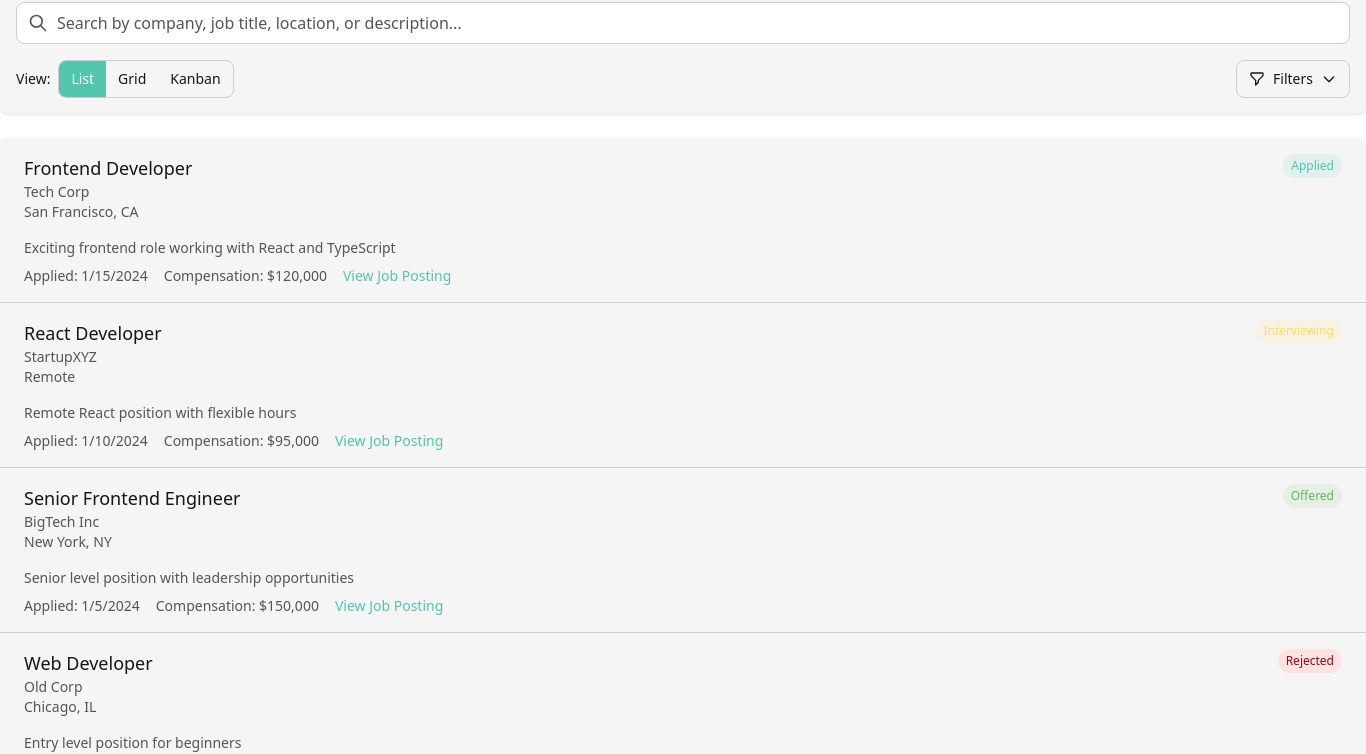
Test case: ApplicationsView Component › View Toggle › should toggle back to list view when list button is clicked
The image size is (1366, 754).
Click the button with test id "grid-toggle-button" at (132, 79), box [106,61,158,97]
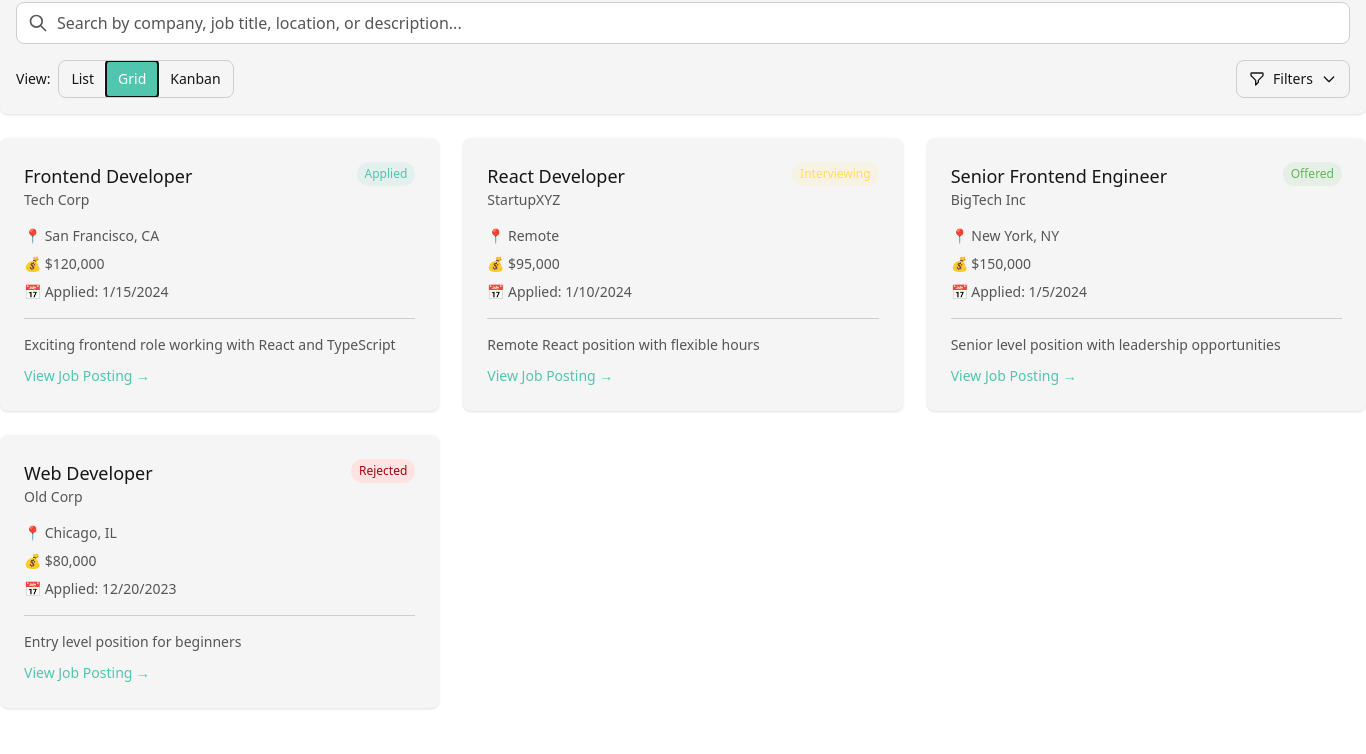
Check: the element with test id "grid-view" is shown
Click the button with test id "list-toggle-button" at (83, 79), box [59,61,106,97]
(page scrolled)
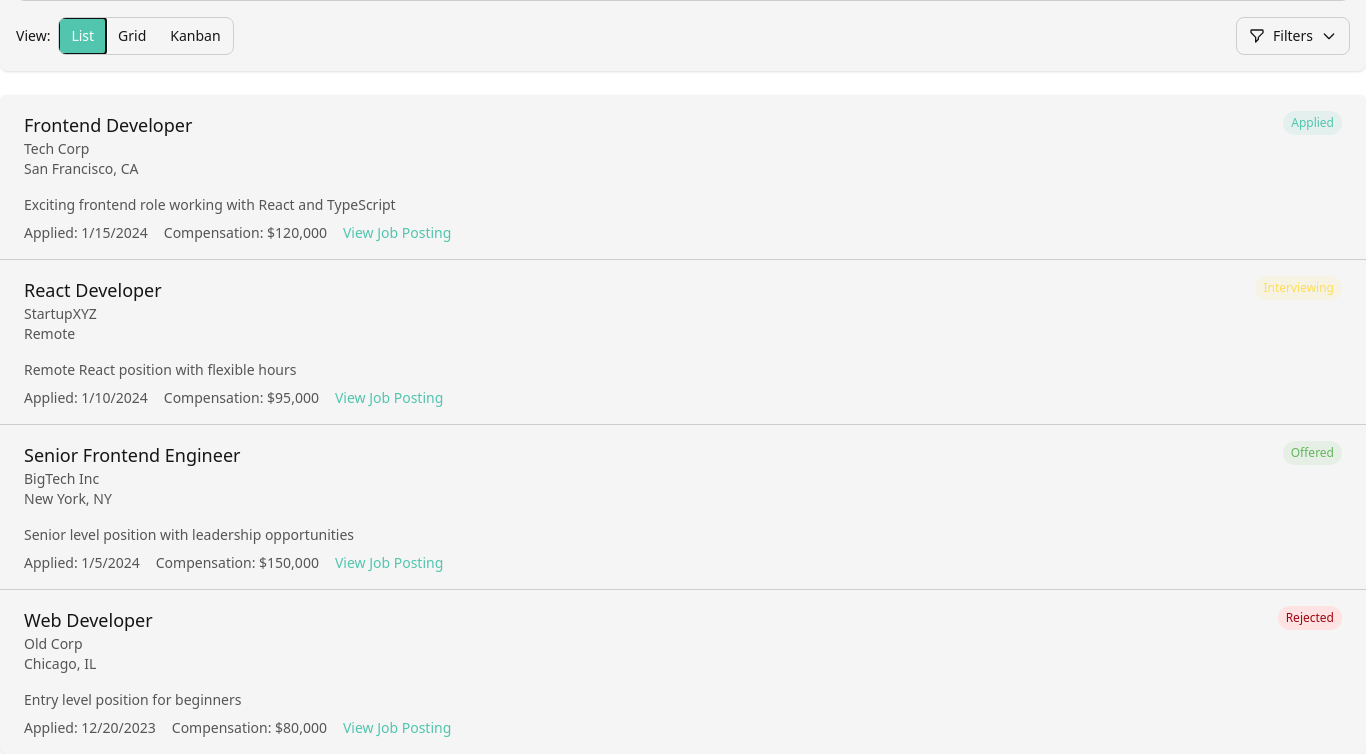
Check: the element with test id "list-view" is shown
